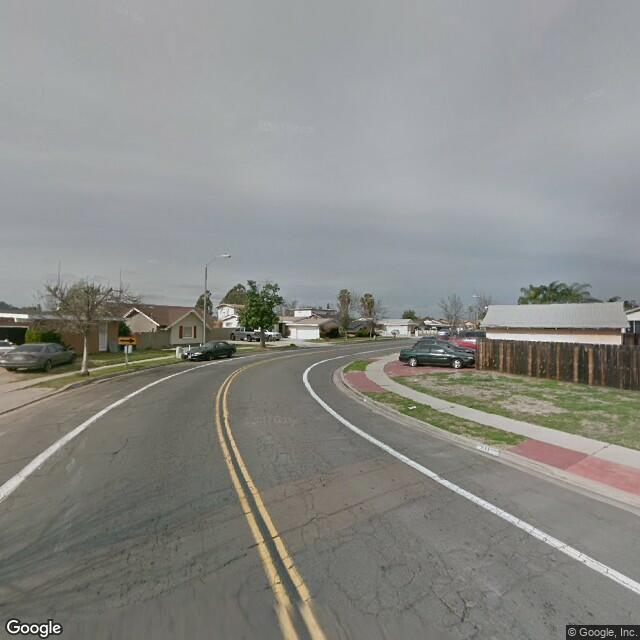litter: (409, 406, 417, 410), (363, 398, 368, 404)
